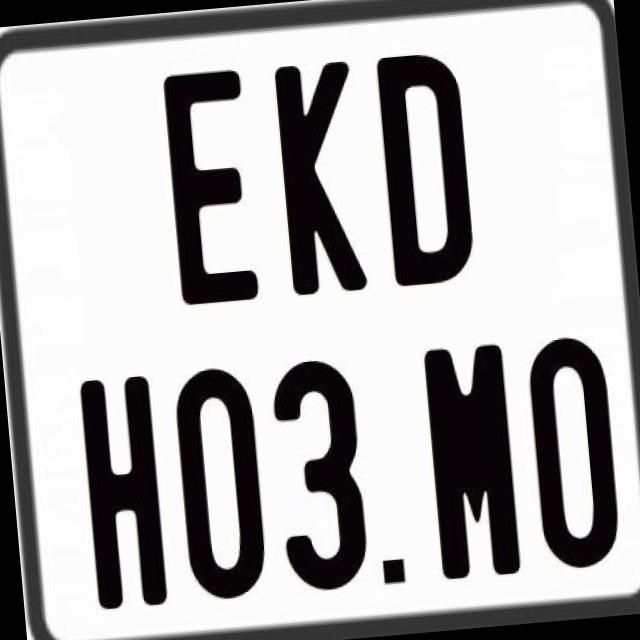0: (169, 363, 269, 600), (521, 331, 620, 568)
3: (266, 354, 370, 594)
D: (374, 48, 474, 290)
E: (158, 69, 257, 307)
H: (76, 375, 170, 618)
K: (270, 60, 370, 304)
M: (418, 340, 516, 581)
